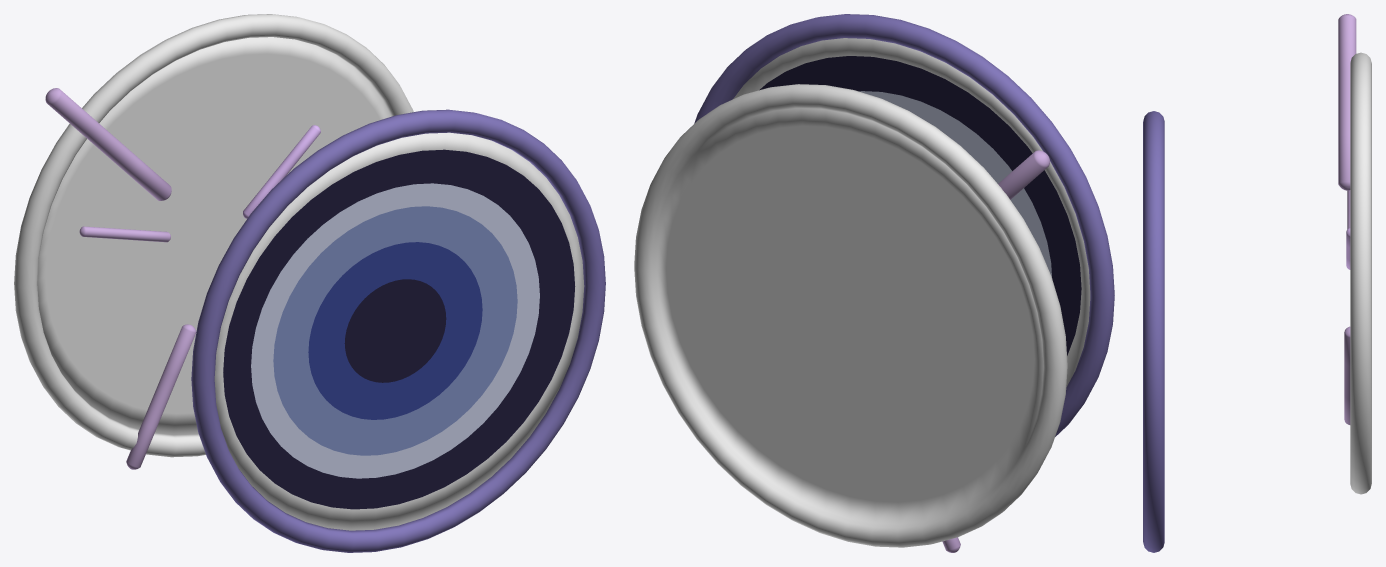
File: BlackHoleTransparenteVerdadeiro.fbx
3 renders of one model, left to right at view 1: azimuth 30°, elevation 25°; view 2: azimuth 150°, elevation 25°; view 3: azimuth 270°, elevation 25°, orthographic. The views are drawn at different scales.
Parts seen in each view (by area): view 1: Torus.006, Torus.001, Cylinder.004, Cylinder.006, Cylinder.007, Cylinder.005; view 2: Torus.001, Torus.006, Cylinder.004; view 3: Torus.006, Torus.001, Cylinder.004, Cylinder.006.
Boxes of the visible parts, x1=… form: Torus.006: x1=191, y1=109, x2=605, y2=552; Torus.001: x1=14, y1=14, x2=413, y2=457; Cylinder.004: x1=45, y1=88, x2=171, y2=200; Cylinder.006: x1=126, y1=324, x2=196, y2=469; Cylinder.007: x1=243, y1=125, x2=320, y2=218; Cylinder.005: x1=79, y1=226, x2=170, y2=242; Torus.001: x1=634, y1=84, x2=1067, y2=547; Torus.006: x1=694, y1=14, x2=1114, y2=436; Cylinder.004: x1=998, y1=150, x2=1049, y2=199; Torus.006: x1=1143, y1=111, x2=1164, y2=552; Torus.001: x1=1350, y1=52, x2=1371, y2=494; Cylinder.004: x1=1338, y1=14, x2=1356, y2=190; Cylinder.006: x1=1344, y1=326, x2=1350, y2=424.
Size of the model in its own units: 1137 by 1049 by 507.
